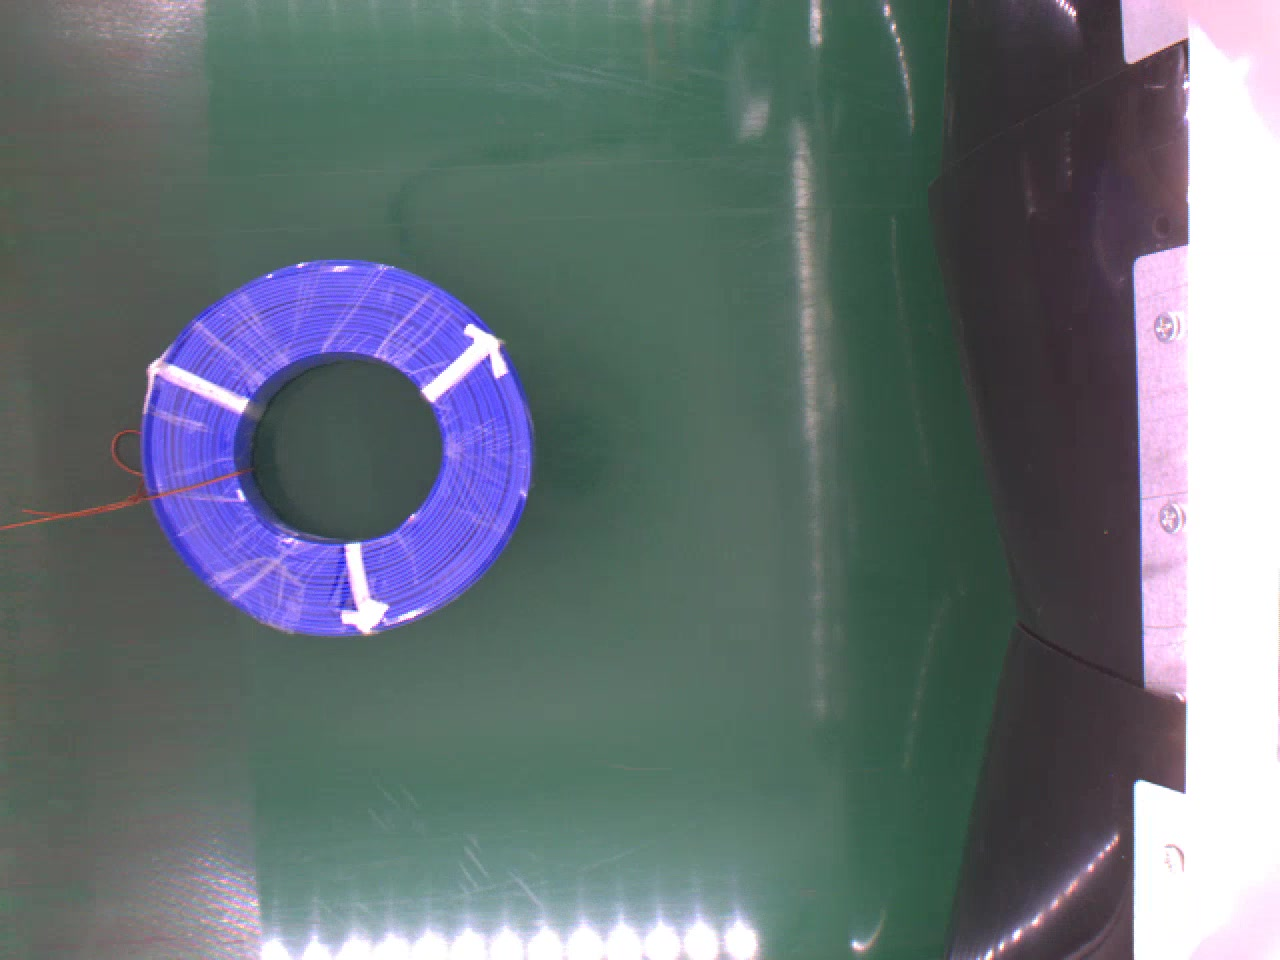blue: (140, 260, 533, 633)
